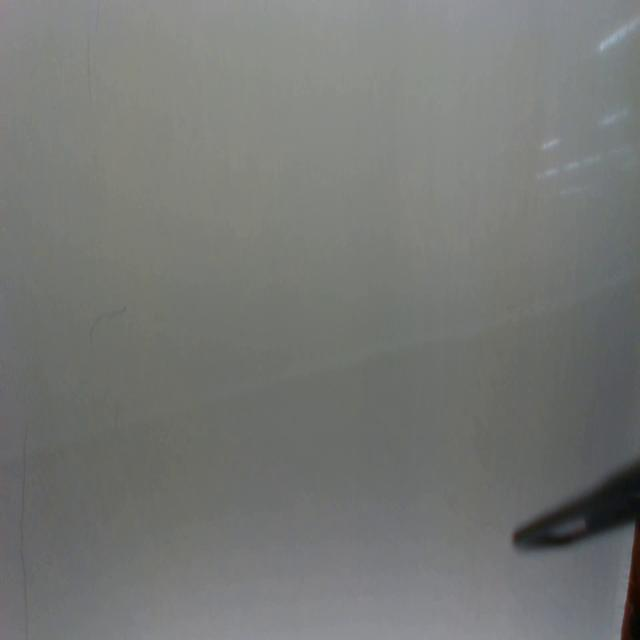crease: (18, 418, 35, 640), (86, 36, 95, 108)
